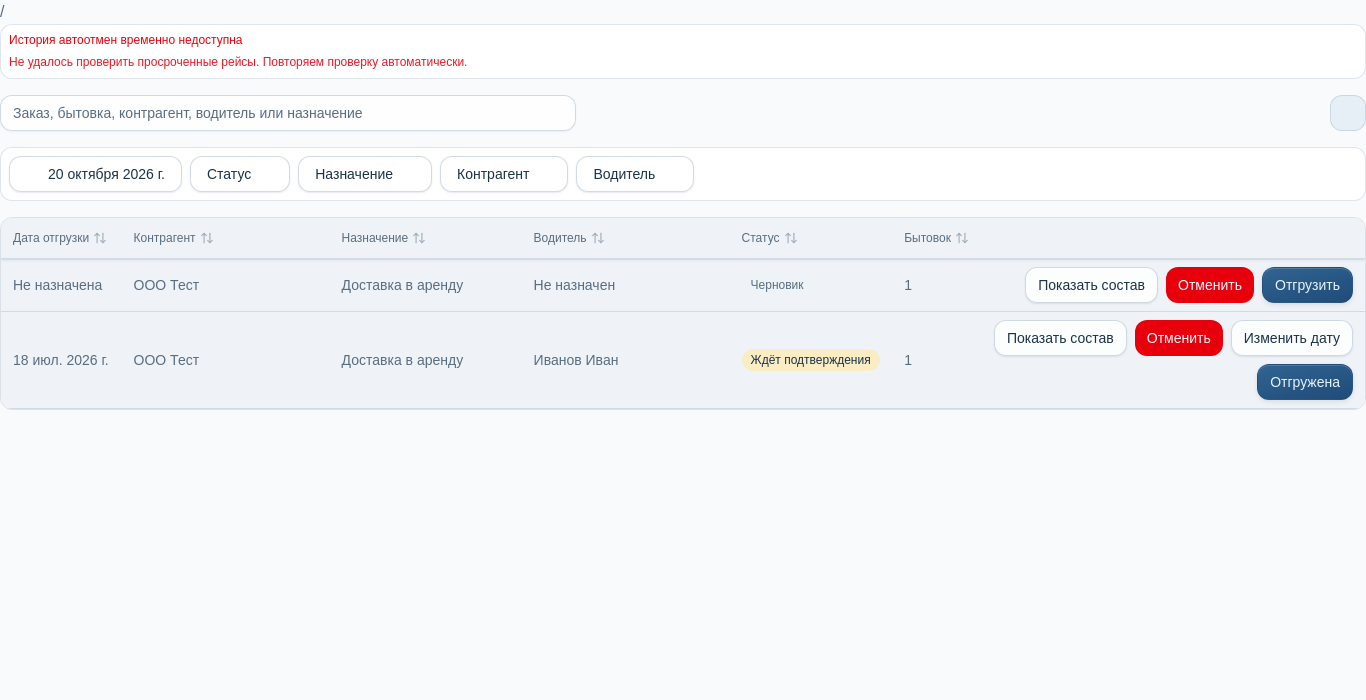
LogisticsShipmentsPage › keeps unavailable owner data neutral instead of claiming a filling mismatch
What coordinates should you click on to do the following:
click the button "Показать состав" in the row of "Не назначена"
I would click on:
 (1092, 285)
Its box is left=1025, top=267, right=1158, bottom=303.
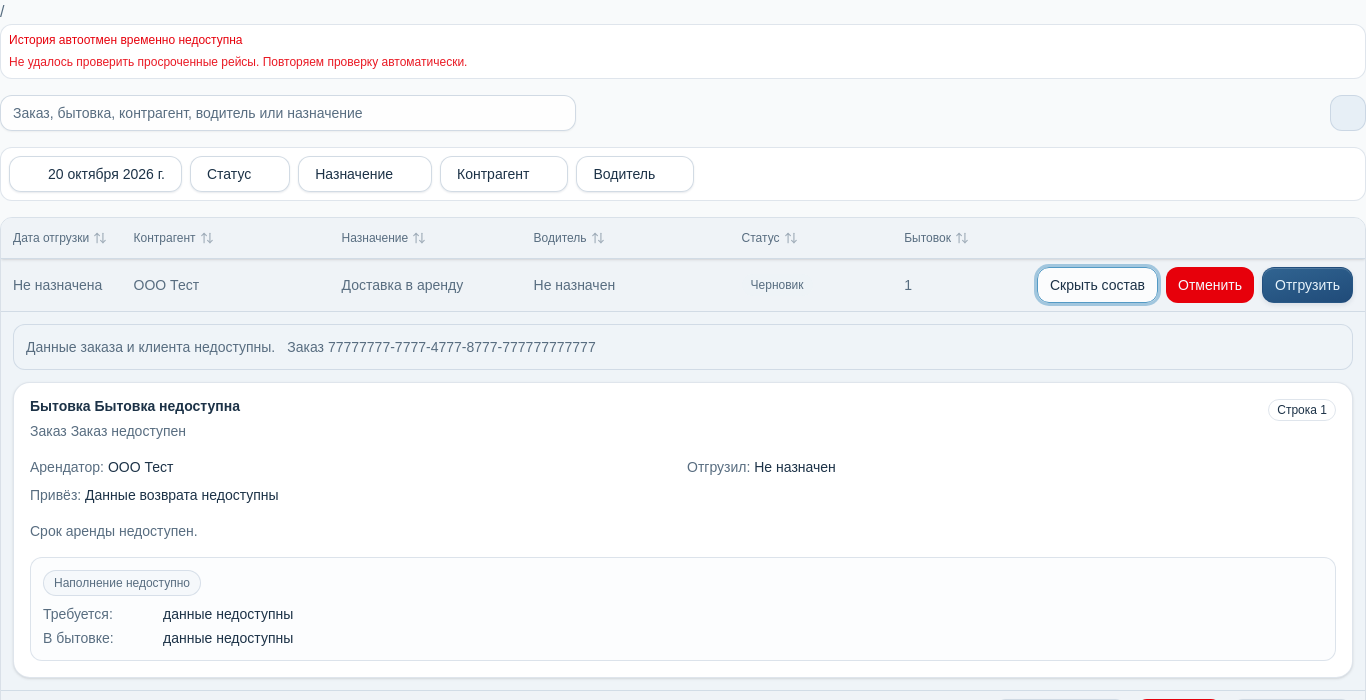
Now the text "Наполнение недоступно" is shown, box left=43, top=570, right=201, bottom=596
Now the text "Данные возврата недоступны" is shown, box left=85, top=487, right=279, bottom=503
